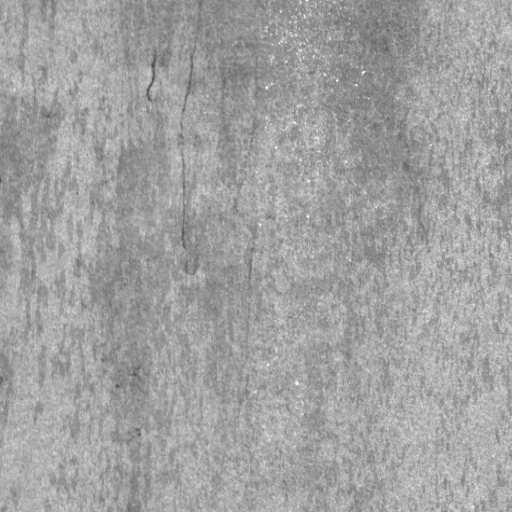zongxiangliewen: (177, 1, 206, 275), (145, 43, 160, 105)
